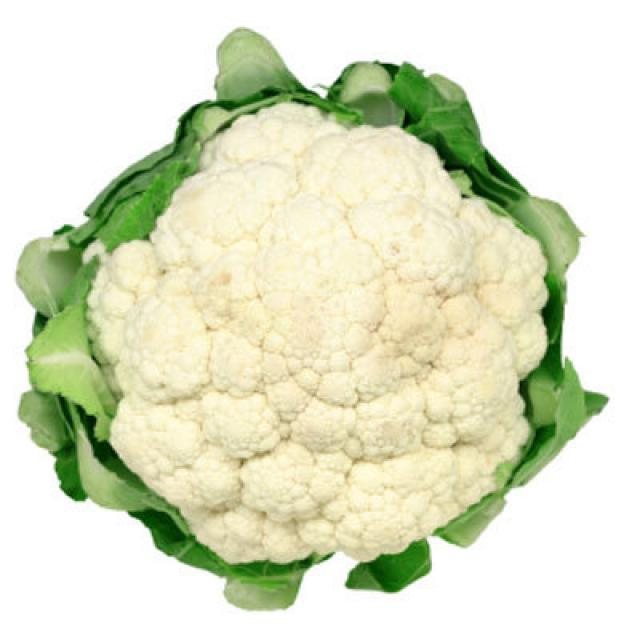cauliflower: (34, 22, 612, 640)
